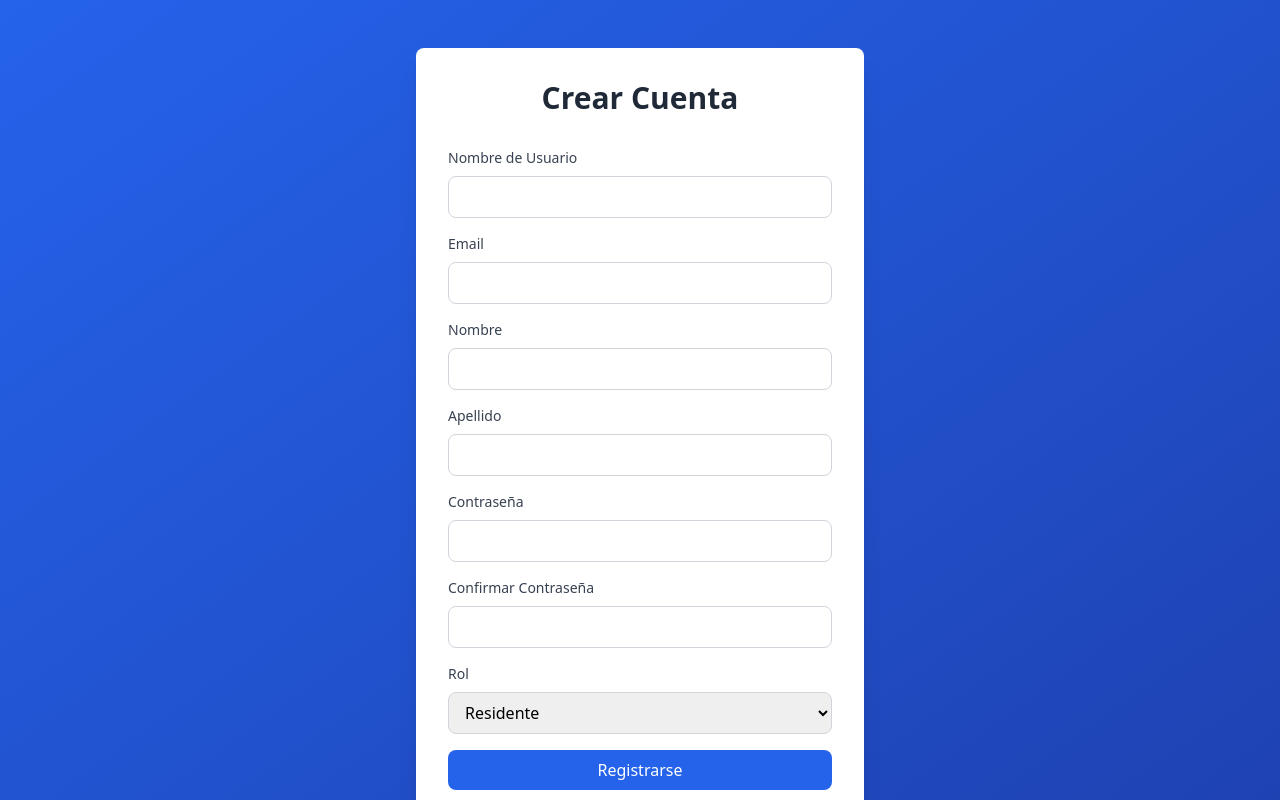
Register › Muestra error cuando las contraseñas no coinciden
The image size is (1280, 800).
Type "usuarioprueba" into the field with test id "register-username".
click(640, 197); type("usuarioprueba")  # box [448,176,832,218]
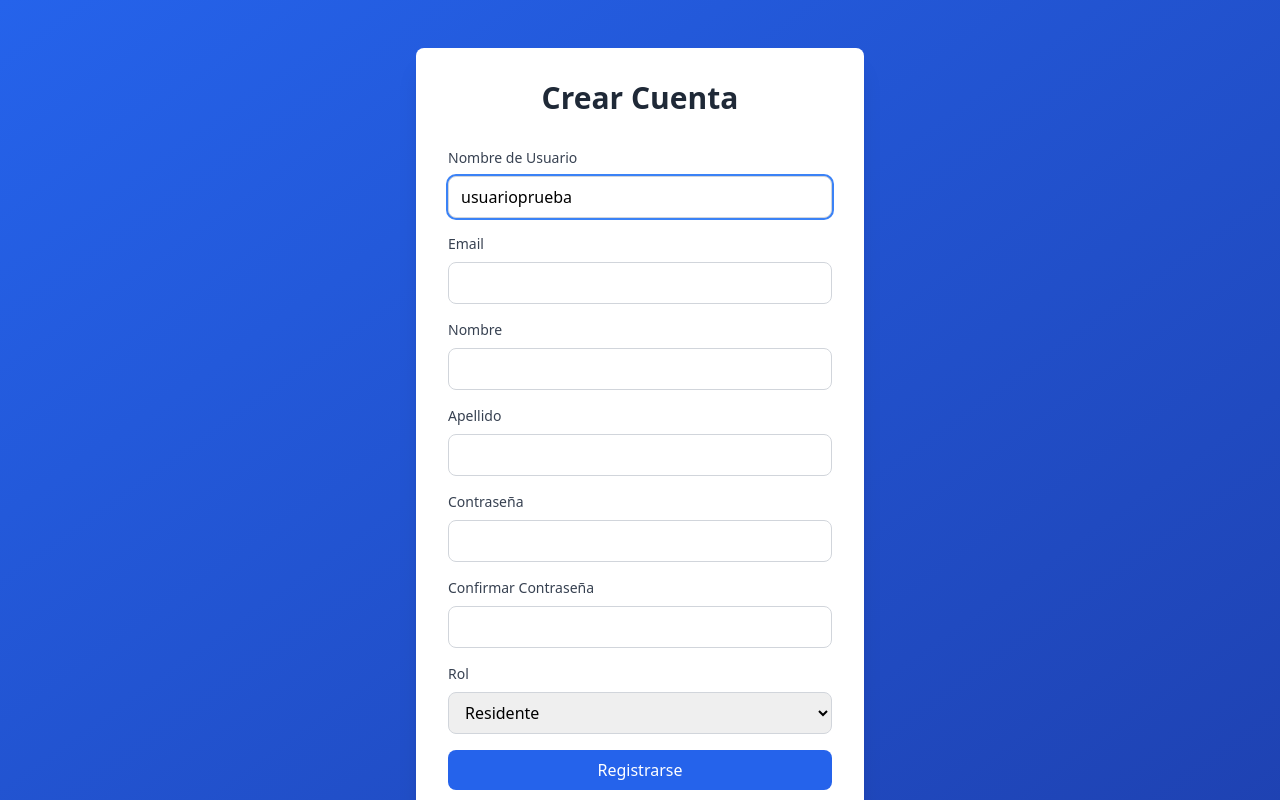
Type "prueba@test.com" into the field with test id "register-email".
click(640, 283); type("prueba@test.com")  # box [448,262,832,304]
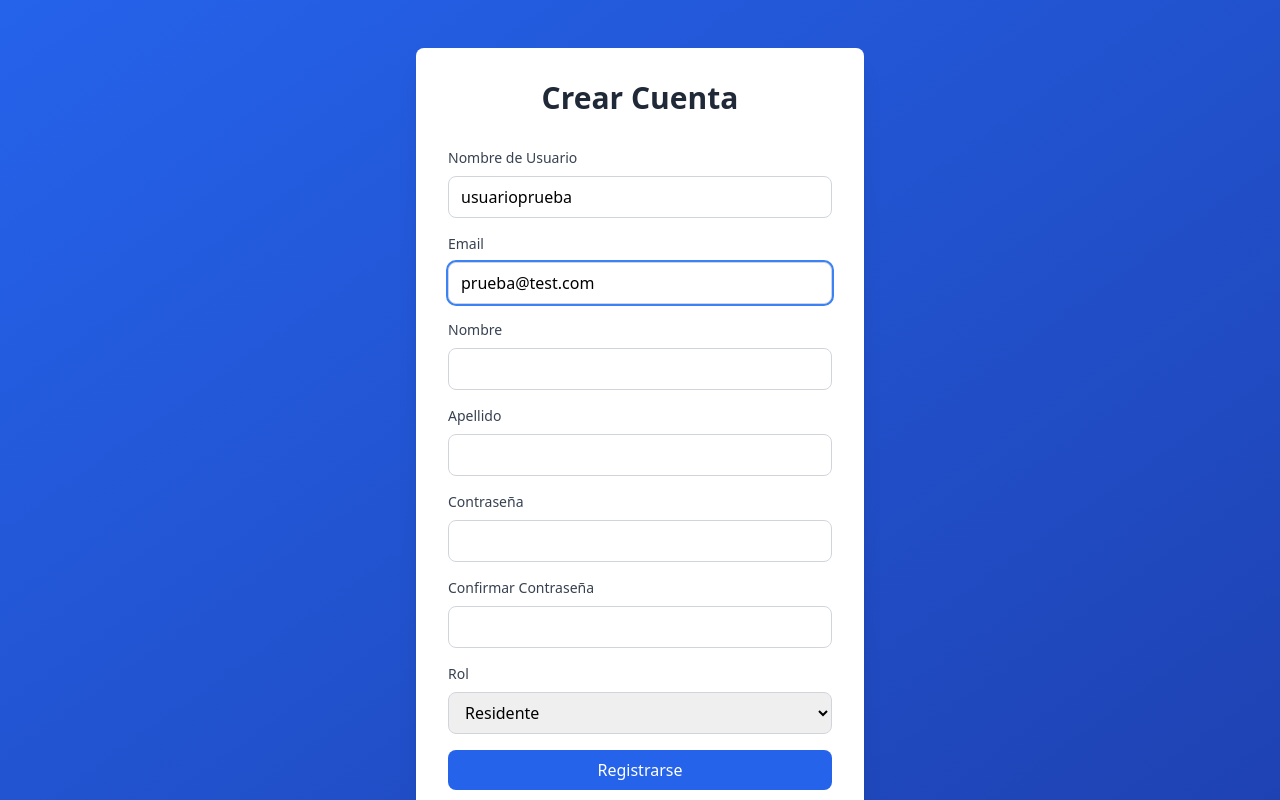
Type "password123" into the password field with test id "register-password".
click(640, 541); type("password123")  # box [448,520,832,562]
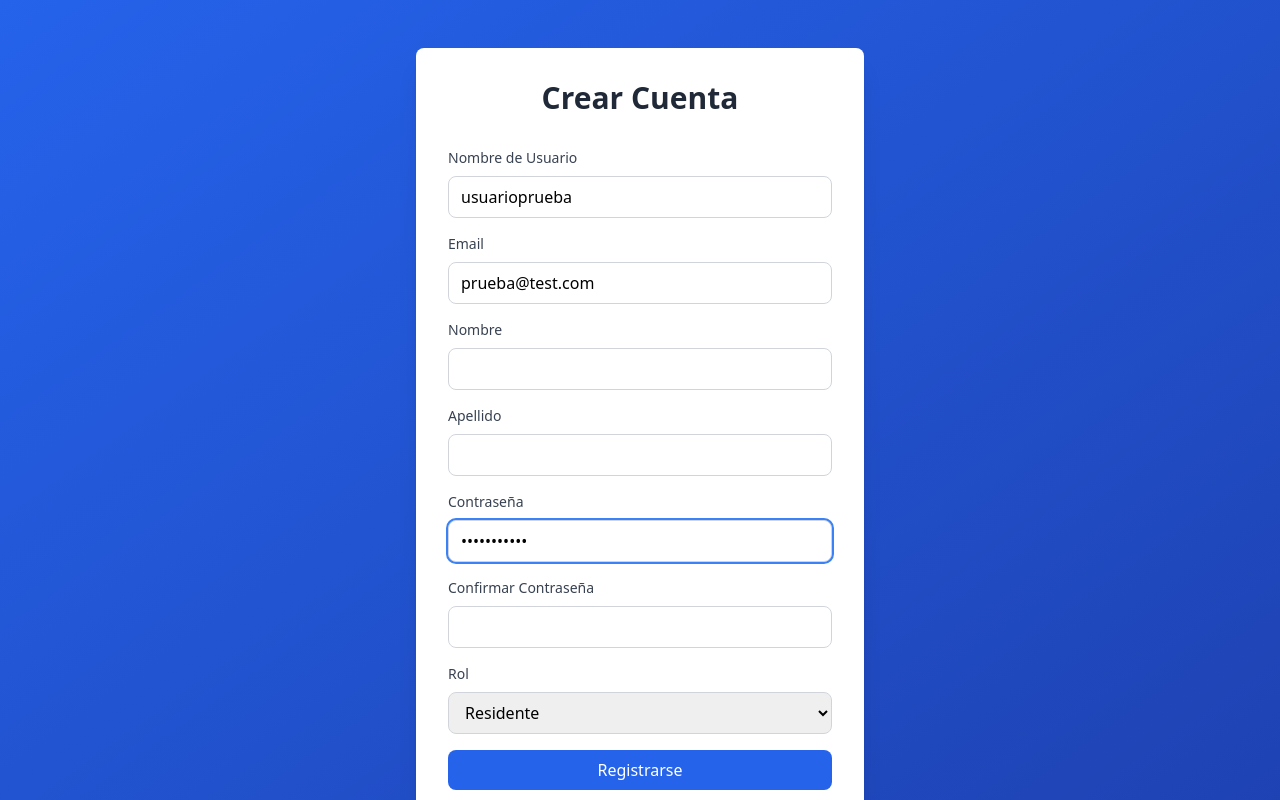
Type "diferente456" into the password field with test id "register-confirmPassword".
click(640, 627); type("diferente456")  # box [448,606,832,648]
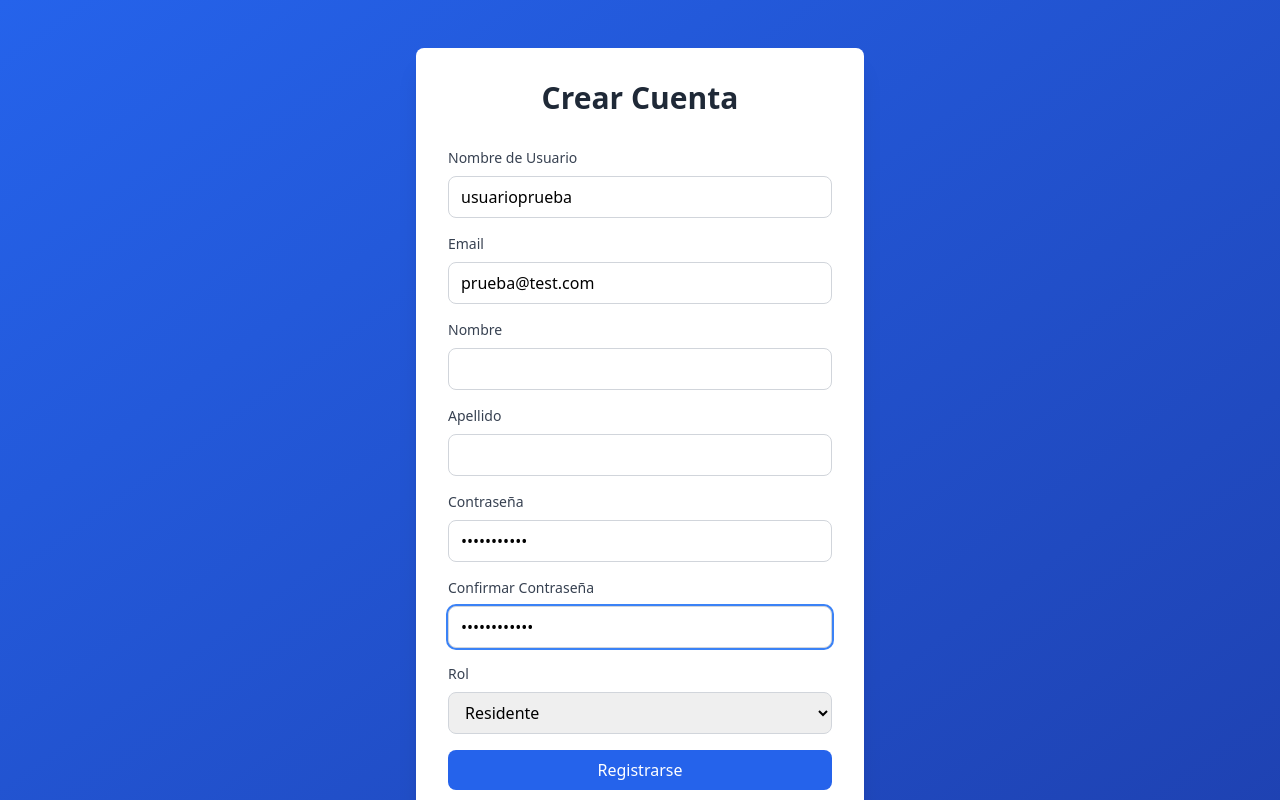
Click the button with test id "register-submit".
click(640, 770)  # box [448,750,832,790]
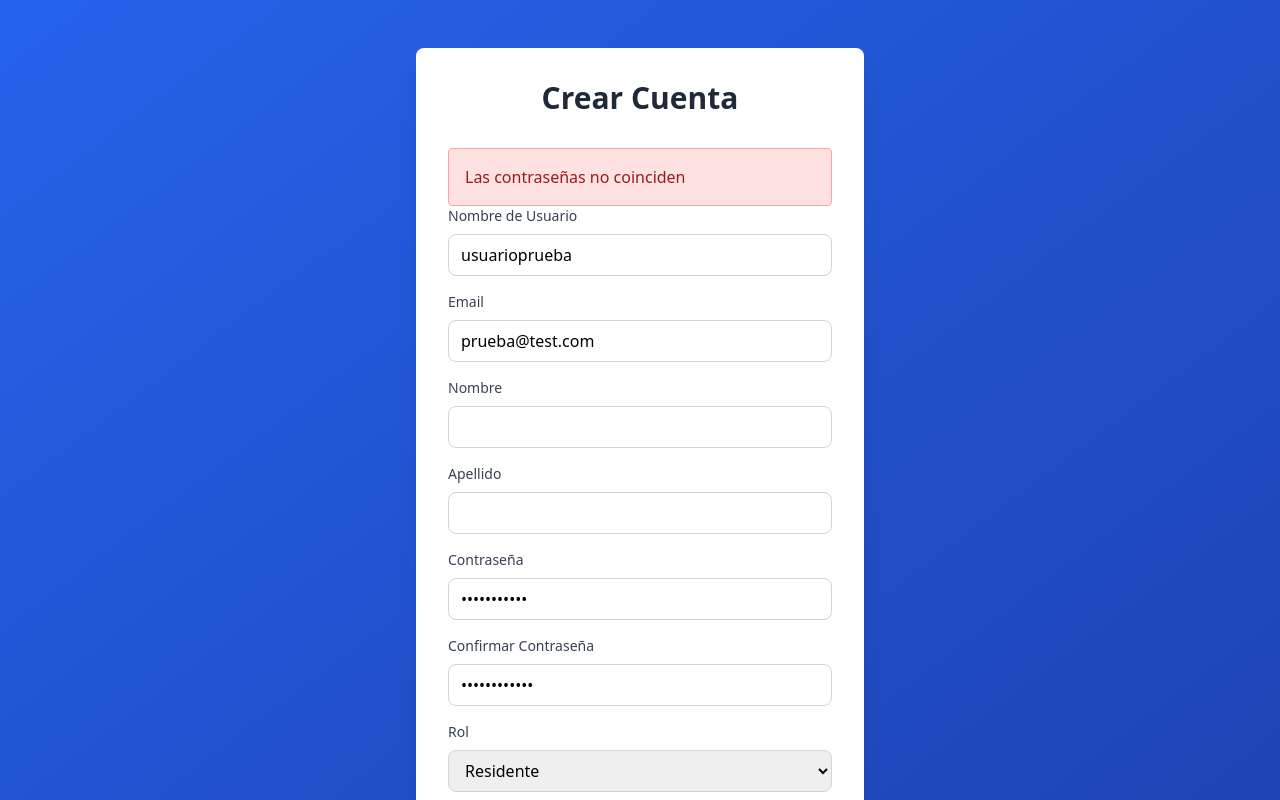
Expected: the text "Las contraseñas no coinciden" is shown, [465,165,686,189]
